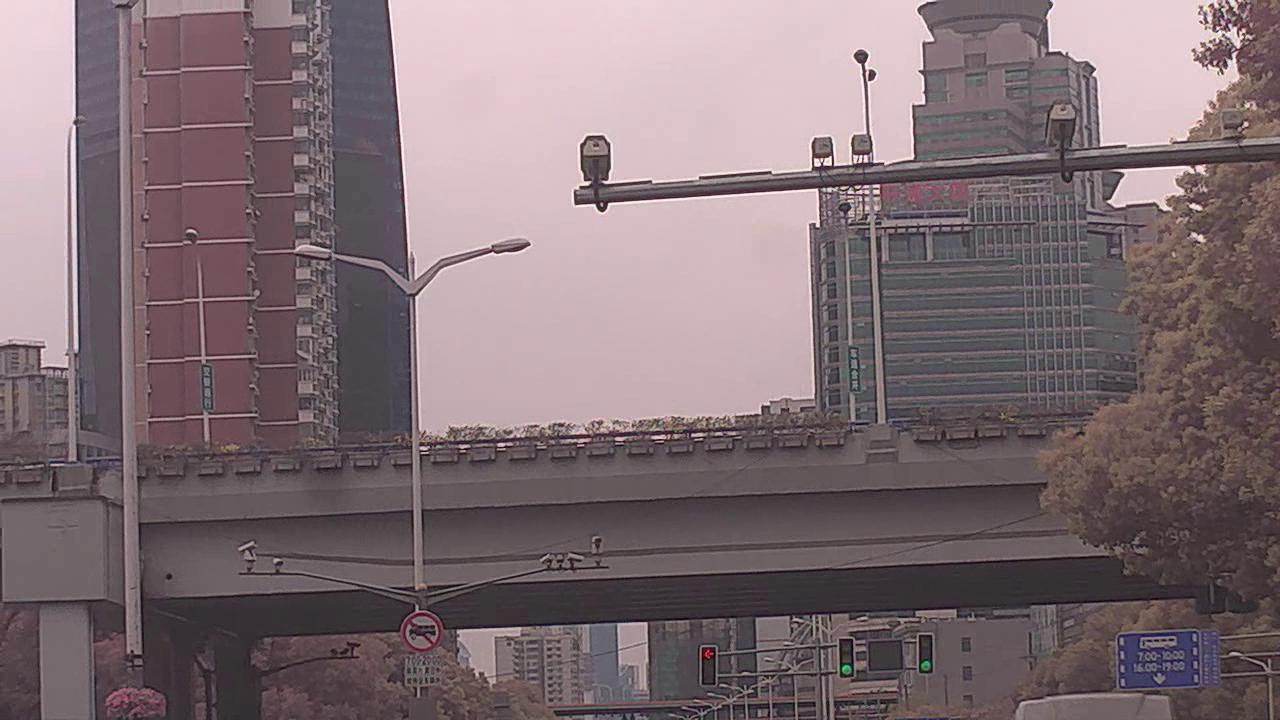traffic_light: (918, 633, 937, 674), (838, 639, 855, 679), (702, 644, 716, 686)
